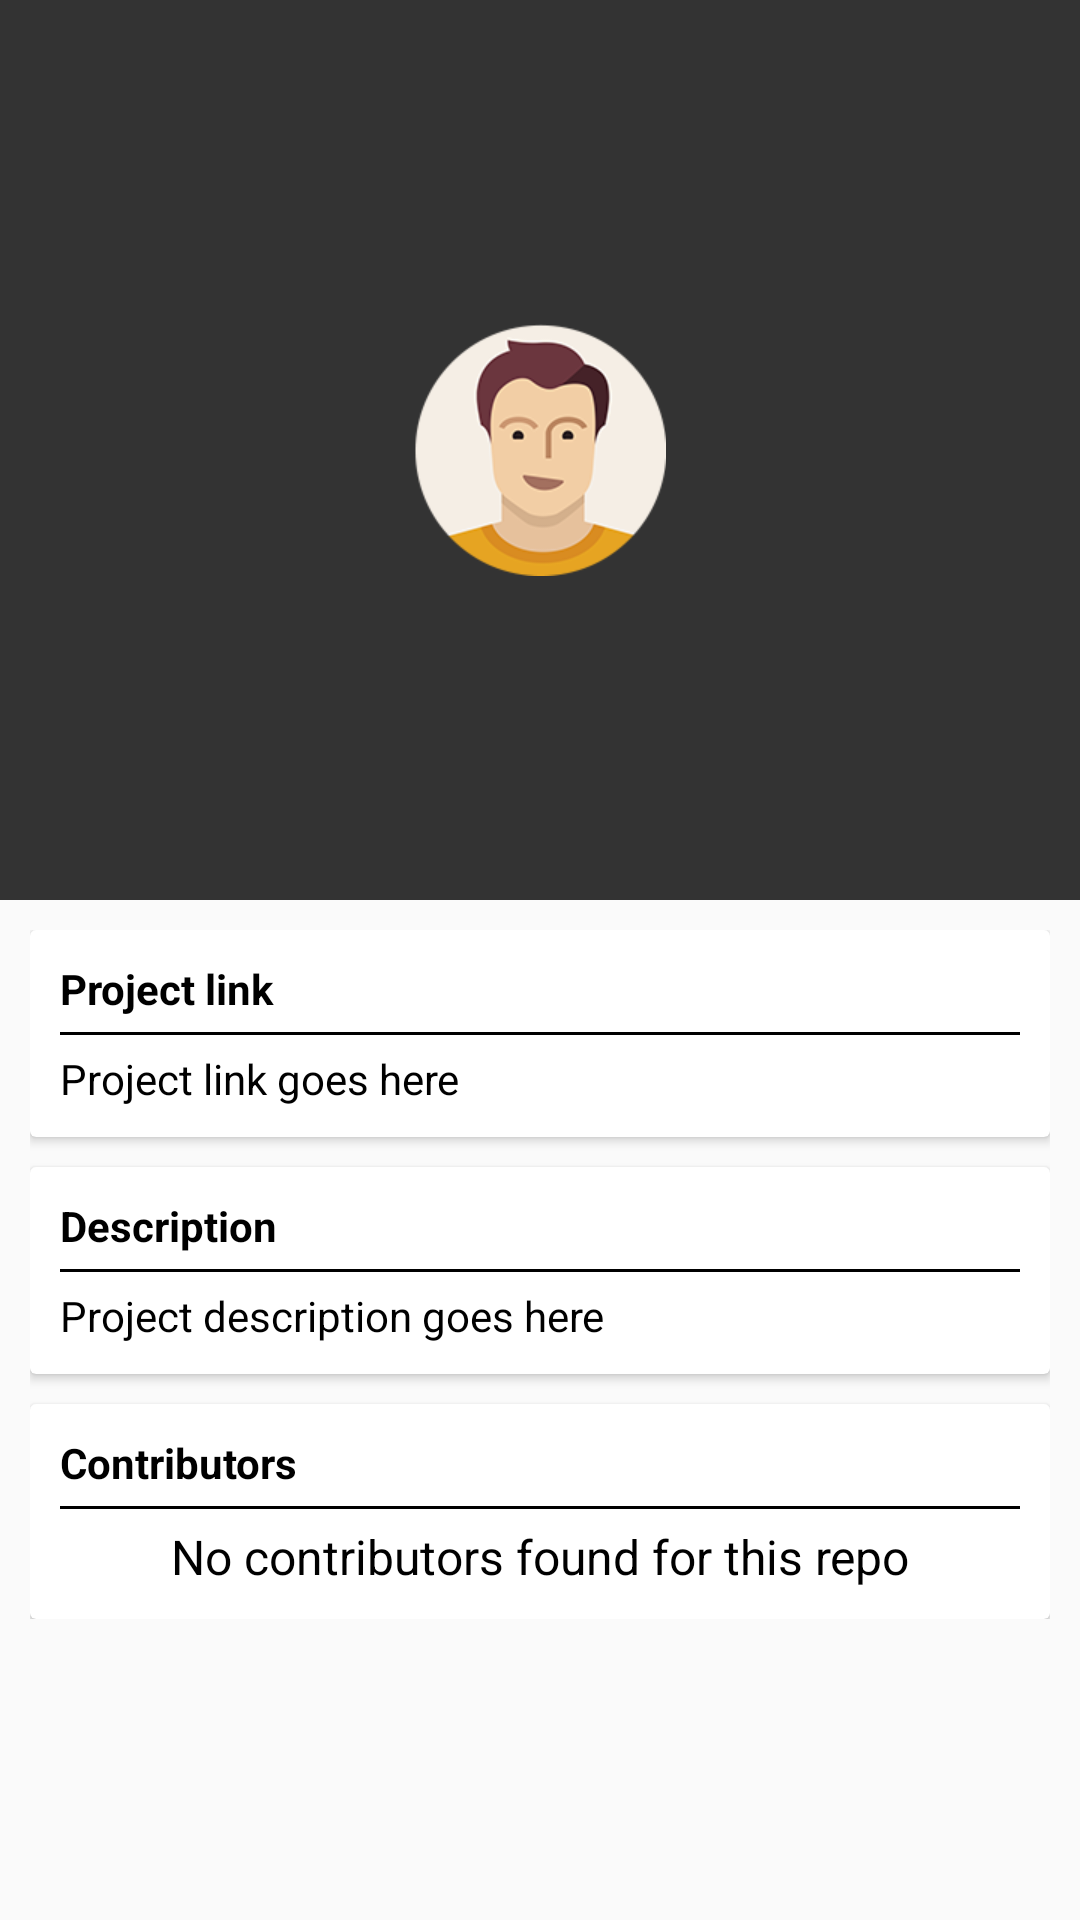

Point at icon controls on the screen. Image size 1080px×1920px, points as point (x, y).
profile: point (540, 450)
